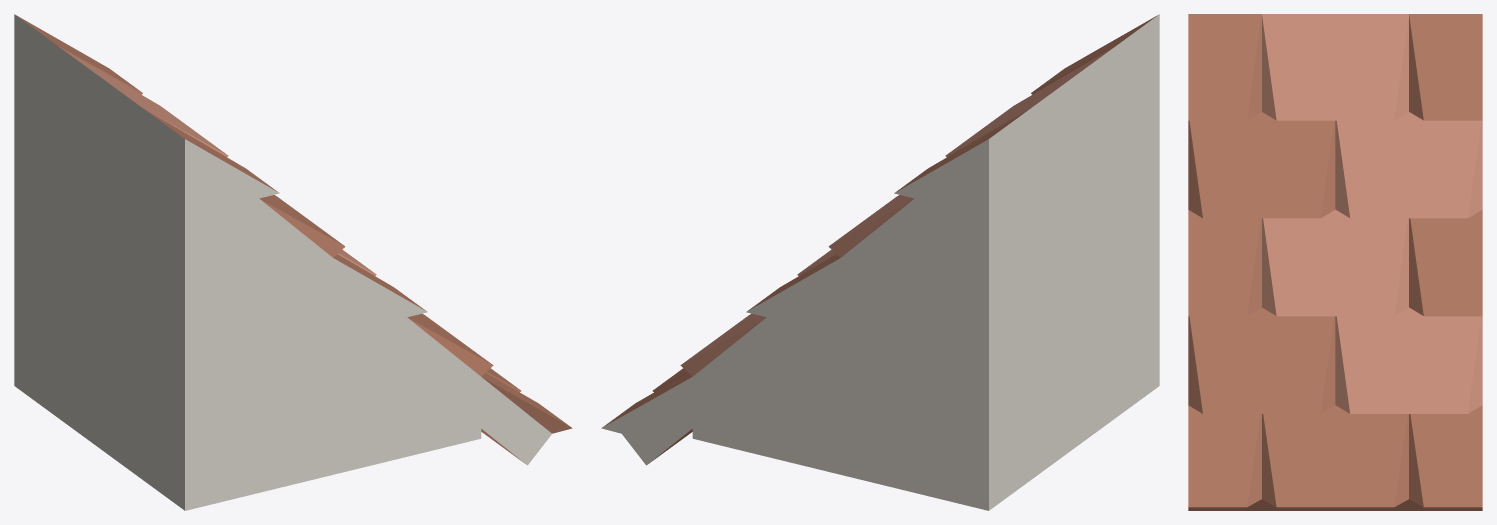
Rendered from Roof_Straight_Side_Eave.glb.
3 views of the same model, side by side, from view 1: azimuth 30°, elevation 25°; view 2: azimuth 150°, elevation 25°; view 3: azimuth 270°, elevation 25° (orthographic). The views are drawn at different scales.
Visible parts, largest first — view 1: Roof_Straight_Side_Eave; view 2: Roof_Straight_Side_Eave; view 3: Roof_Straight_Side_Eave.
Boxes of the visible parts, x1,y1,x2,y2 form: Roof_Straight_Side_Eave: (14,14,572,510); Roof_Straight_Side_Eave: (601,14,1159,510); Roof_Straight_Side_Eave: (1188,14,1482,510).
Size of the model in its own units: 0.6285 by 0.6352 by 0.48.
